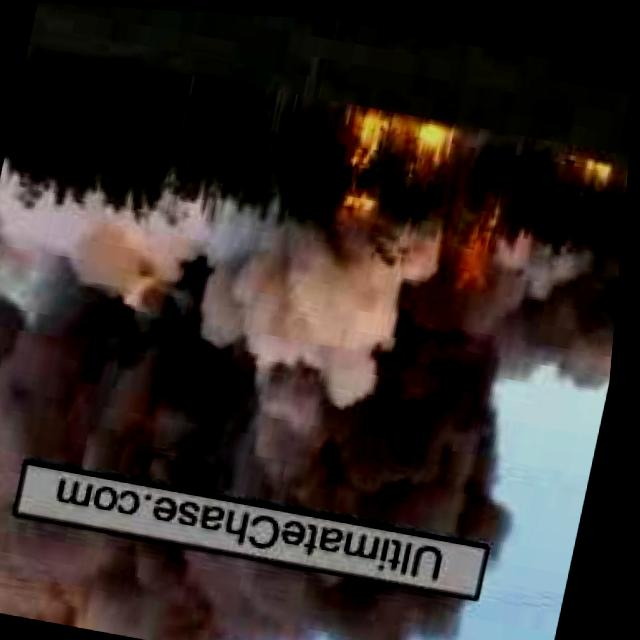helmet: (335, 101, 472, 188), (336, 101, 452, 184), (442, 197, 508, 295), (448, 212, 506, 294), (561, 145, 627, 196), (335, 181, 386, 221), (572, 143, 615, 180)
no_helmet: (0, 181, 564, 539), (0, 501, 483, 640), (487, 229, 626, 387)
